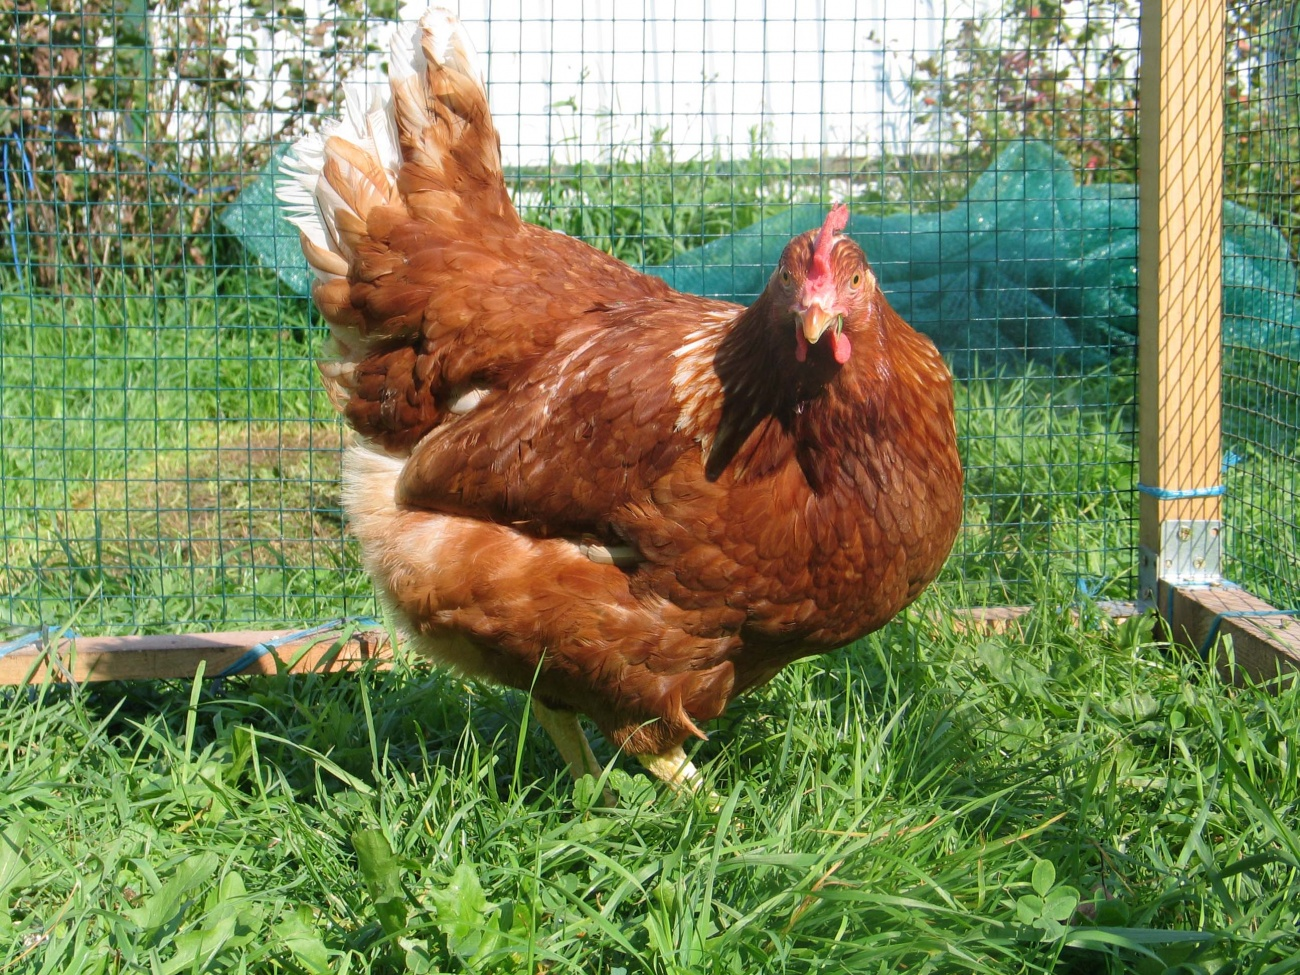chicken: (273, 3, 979, 833)
